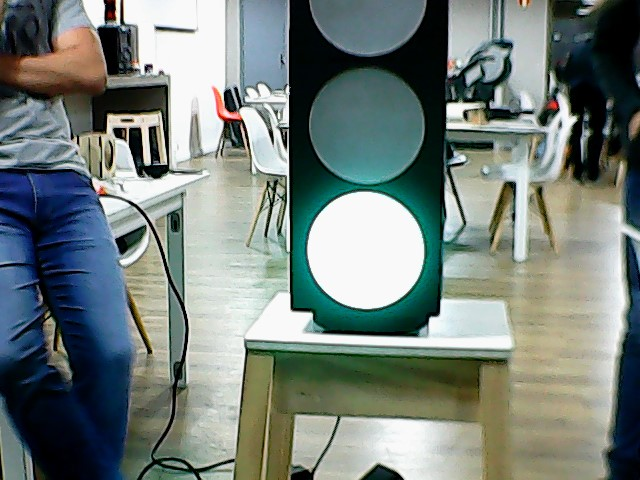verde: (282, 1, 454, 318)
